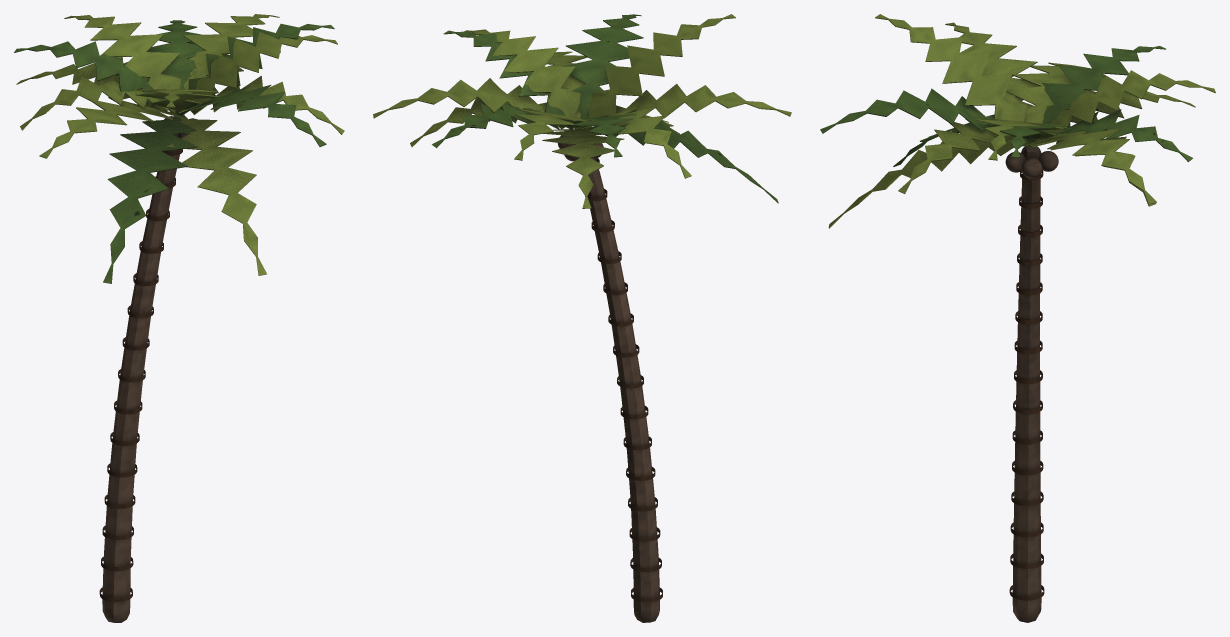
The model's file is costa_coqueiro_a.glb.
3 views of the same model, side by side, from view 1: azimuth 30°, elevation 25°; view 2: azimuth 150°, elevation 25°; view 3: azimuth 270°, elevation 25° (orthographic). The views are drawn at different scales.
Visible parts, largest first — view 1: costa_coqueiro_a; view 2: costa_coqueiro_a; view 3: costa_coqueiro_a.
Part boxes in pixels (x1,y1,x2,y2): costa_coqueiro_a: [14, 14, 344, 622]; costa_coqueiro_a: [373, 14, 791, 622]; costa_coqueiro_a: [820, 14, 1215, 622].
Bounding box in the file's own units: 4.99 × 8.18 × 4.92.
Materials: 1 (1 with a texture image).
